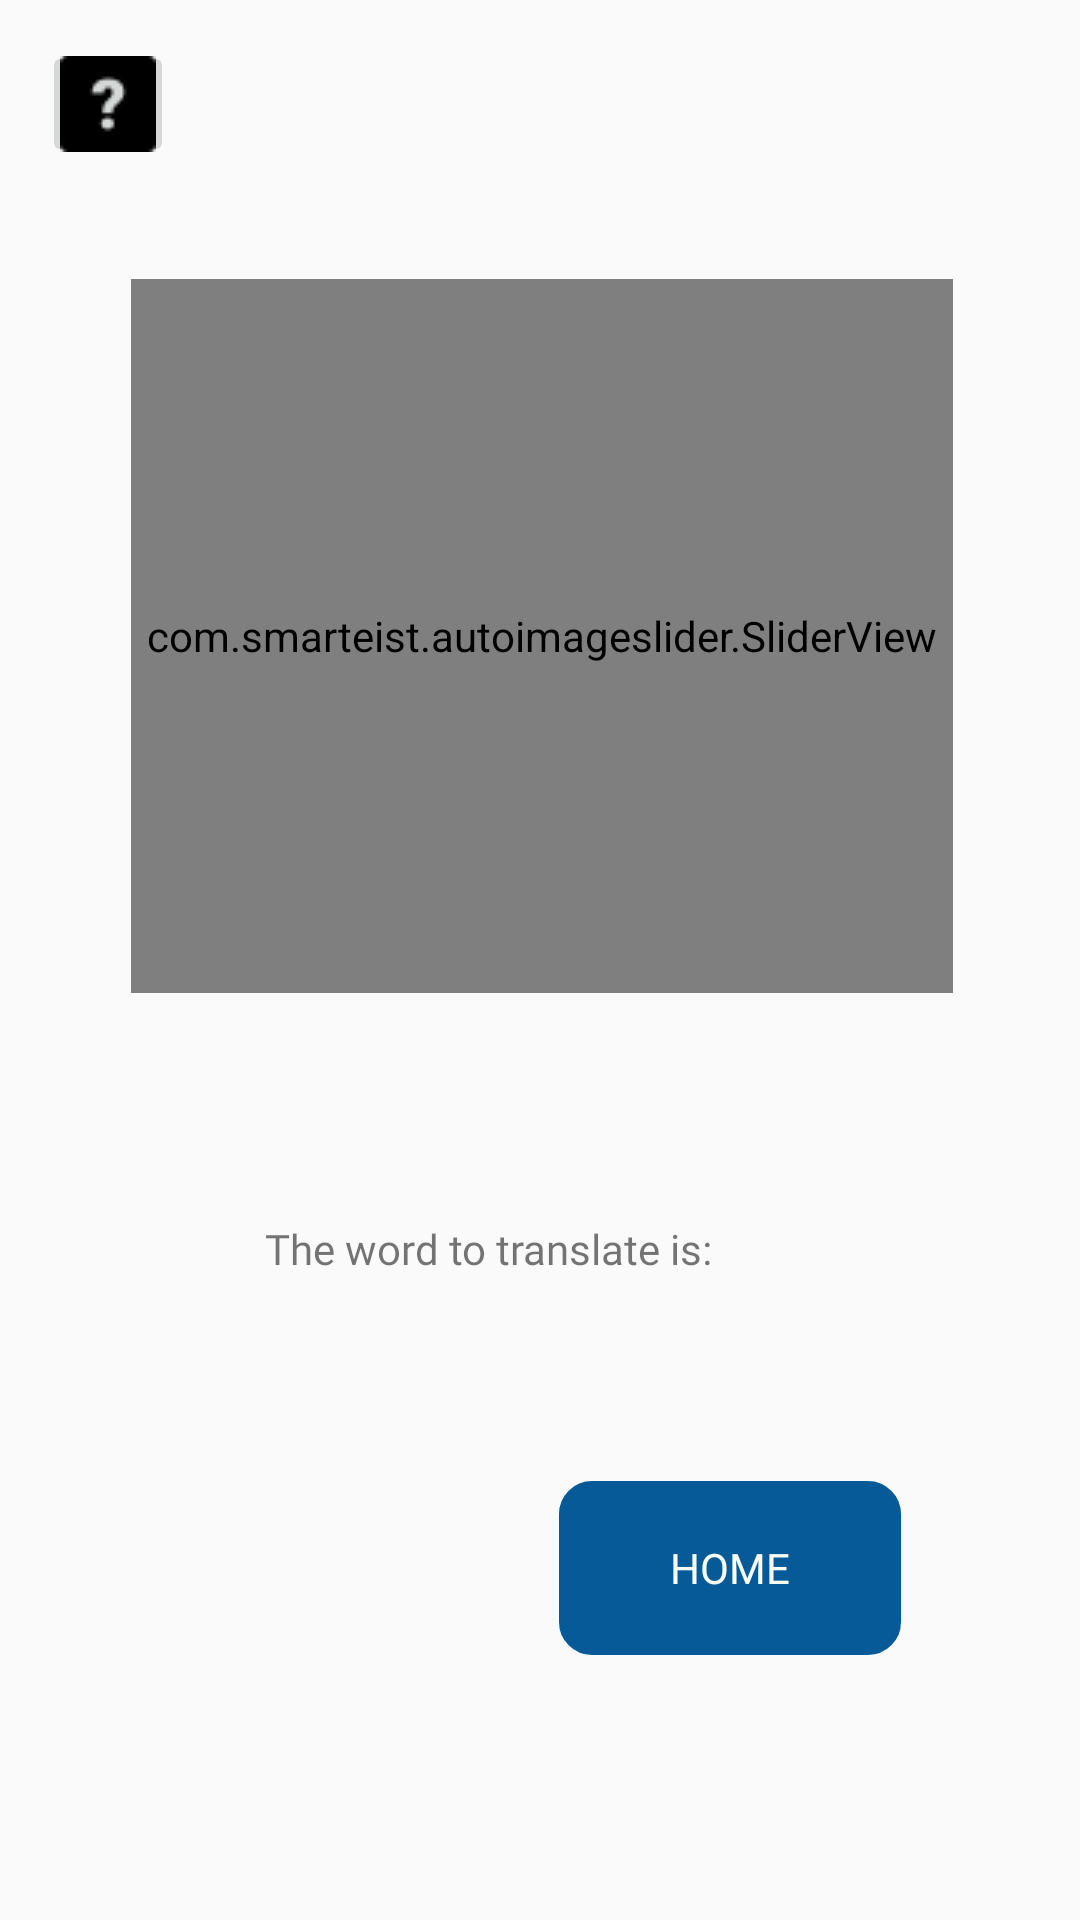

Icon bounding boxes for this 1080px x 1920px phone screenshot, format bbox=(x1, y1, x2, y2):
question mark: bbox=(54, 56, 162, 152)
